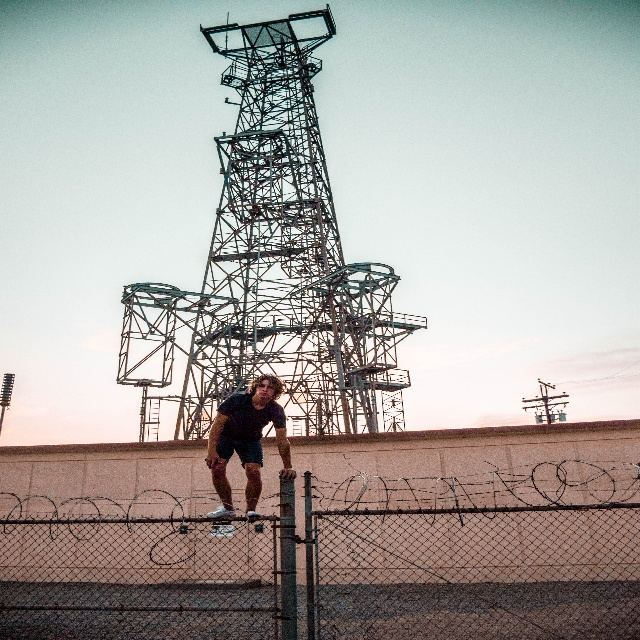Sin_guantes: (205, 451, 222, 472), (279, 465, 297, 481)
